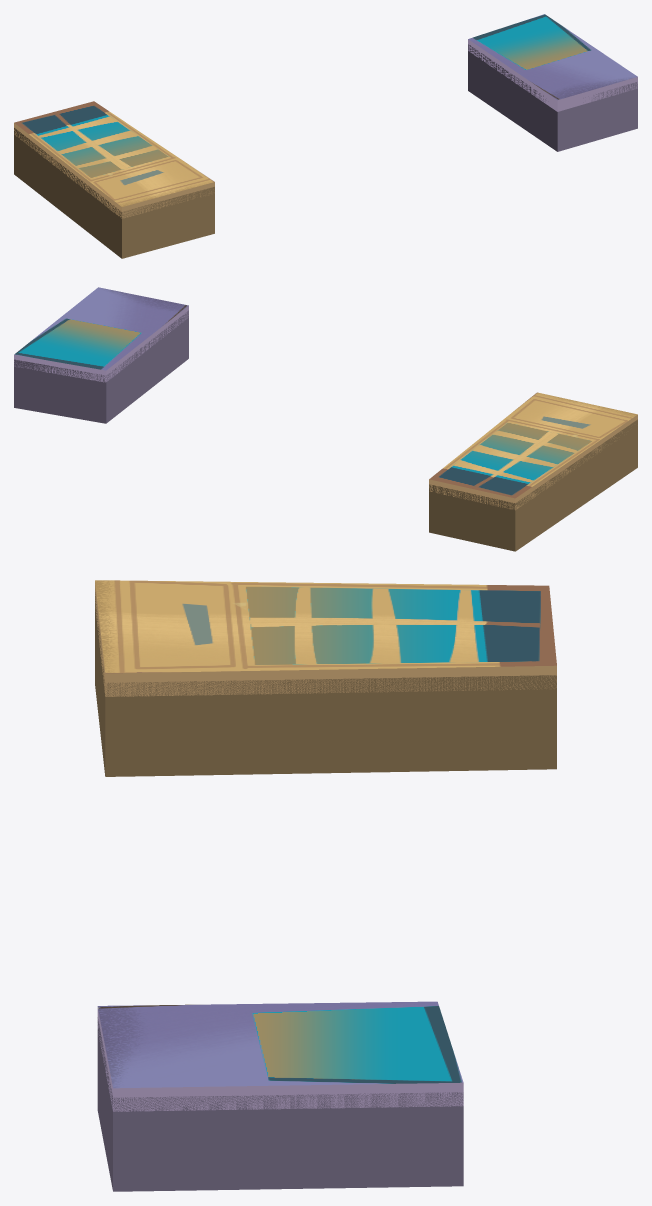
The model's file is street_doors.glb.
3 renders of one model, top to bottom at view 1: azimuth 30°, elevation 25°; view 2: azimuth 150°, elevation 25°; view 3: azimuth 270°, elevation 25°, orthographic. The views are drawn at different scales.
Parts seen in each view (by area): view 1: Old_Poodle_Door_Leaf, Motel_Door_Leaf, Old_Poodle_Door_Jamb_3, Old_Poodle_Door_Jamb_2, Motel_Door_Jamb_3, Motel_Door_Jamb_2; view 2: Old_Poodle_Door_Leaf, Motel_Door_Leaf, Old_Poodle_Door_Jamb_3, Motel_Door_Jamb_0, Old_Poodle_Door_Jamb_0, Motel_Door_Jamb_3; view 3: Old_Poodle_Door_Leaf, Old_Poodle_Door_Jamb_1, Motel_Door_Leaf, Motel_Door_Jamb_1, Motel_Door_Jamb_2, Old_Poodle_Door_Jamb_2.
Boxes of the visible parts, x1=… form: Old_Poodle_Door_Leaf: x1=14, y1=101, x2=214, y2=218; Motel_Door_Leaf: x1=468, y1=14, x2=637, y2=111; Old_Poodle_Door_Jamb_3: x1=14, y1=128, x2=121, y2=258; Old_Poodle_Door_Jamb_2: x1=122, y1=186, x2=214, y2=258; Motel_Door_Jamb_3: x1=468, y1=44, x2=557, y2=151; Motel_Door_Jamb_2: x1=557, y1=82, x2=637, y2=151; Old_Poodle_Door_Leaf: x1=429, y1=392, x2=637, y2=510; Motel_Door_Leaf: x1=14, y1=287, x2=188, y2=382; Old_Poodle_Door_Jamb_3: x1=515, y1=419, x2=637, y2=551; Motel_Door_Jamb_0: x1=14, y1=359, x2=106, y2=423; Old_Poodle_Door_Jamb_0: x1=429, y1=484, x2=515, y2=551; Motel_Door_Jamb_3: x1=106, y1=310, x2=188, y2=423; Old_Poodle_Door_Leaf: x1=95, y1=580, x2=556, y2=696; Old_Poodle_Door_Jamb_1: x1=105, y1=675, x2=556, y2=776; Motel_Door_Leaf: x1=97, y1=1001, x2=463, y2=1111; Motel_Door_Jamb_1: x1=113, y1=1092, x2=463, y2=1191; Motel_Door_Jamb_2: x1=97, y1=1017, x2=112, y2=1189; Old_Poodle_Door_Jamb_2: x1=95, y1=592, x2=105, y2=775.
Bounding box in the file's own units: 4.63 × 0.44 × 1.78.
Materials: 10 (4 with a texture image).
